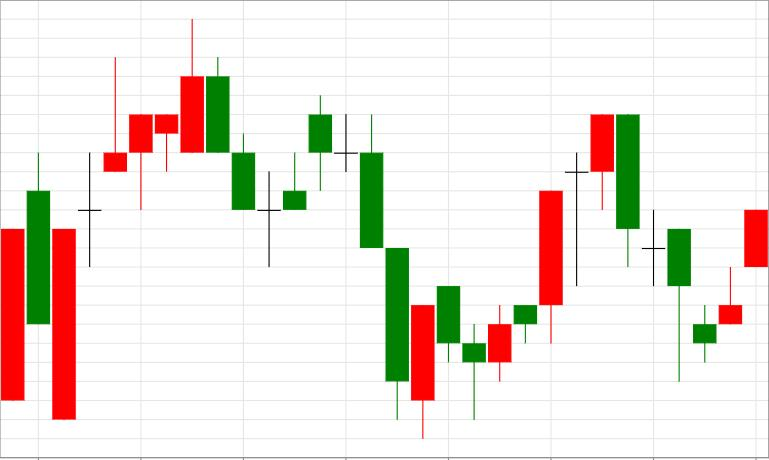bearish_engulfing_fall: (488, 114, 639, 381)
